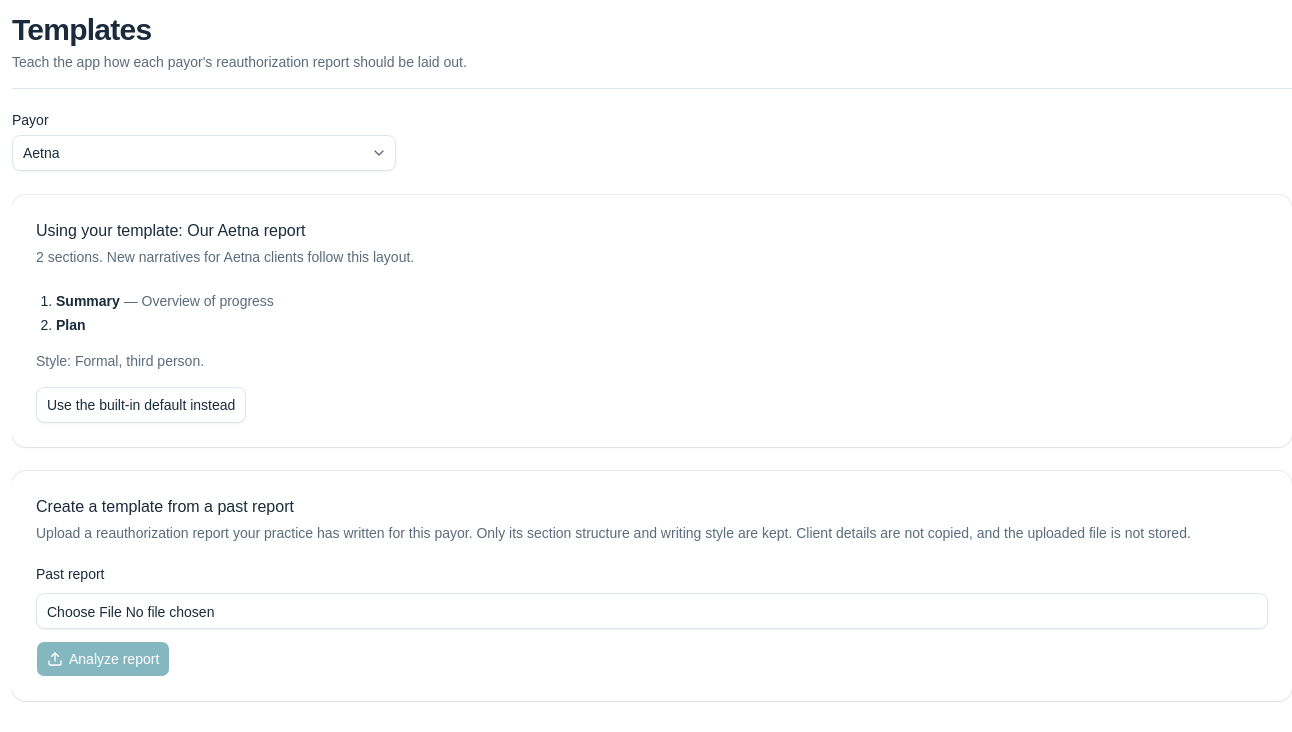
it: Templates page › switches back to the built-in default
Click the button "Use the built-in default instead" at (141, 405), box [36, 387, 246, 423]
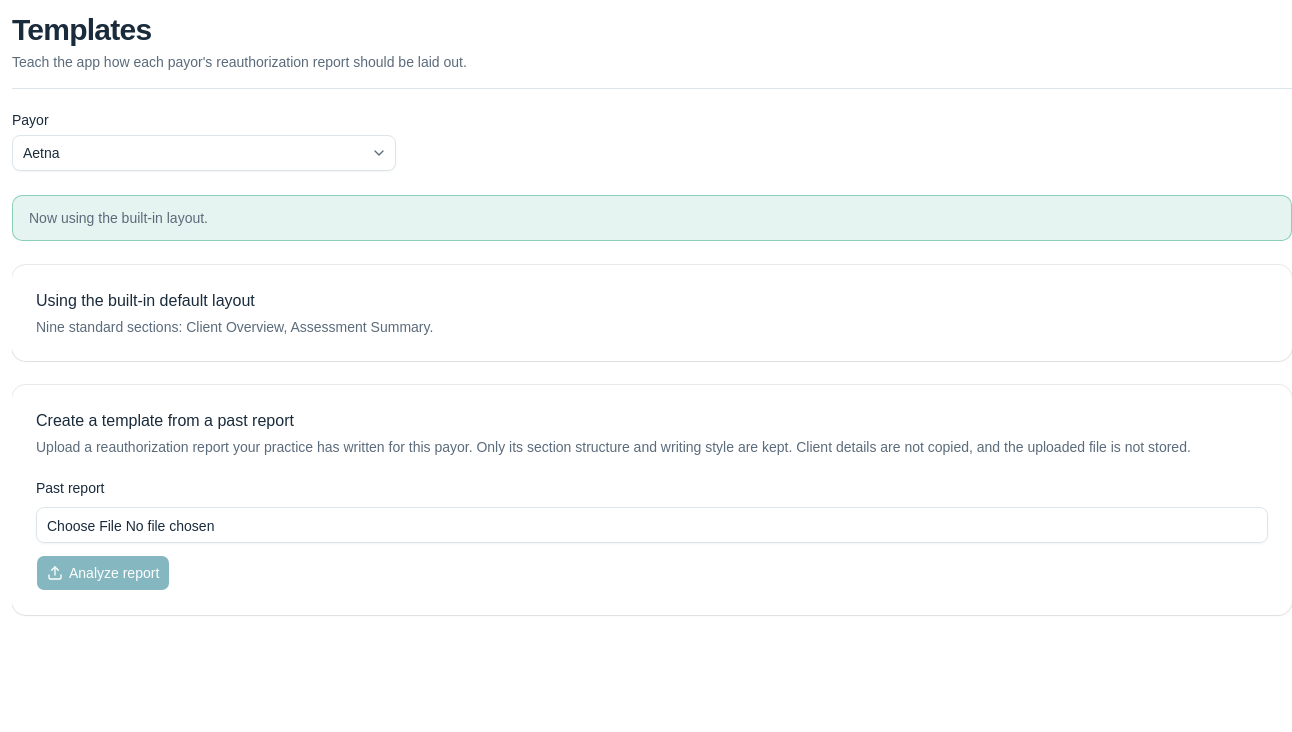
Check: the text "Using the built-in default layout" is shown, box [36, 292, 255, 309]
Check: the text "Now using the built-in layout." is shown, box [29, 210, 208, 226]
